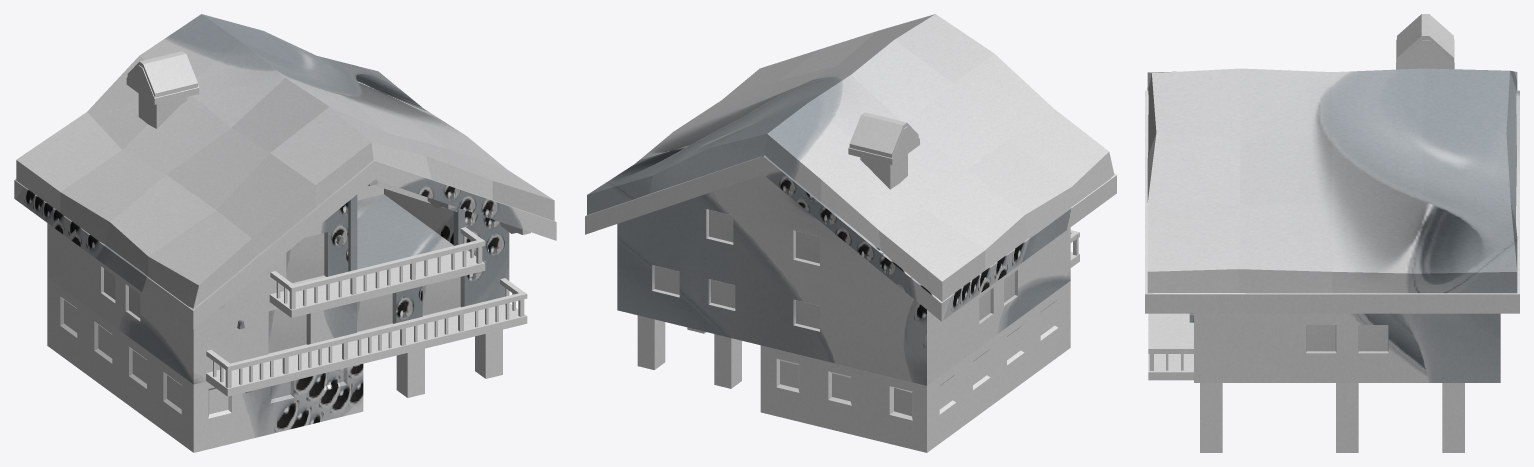
3 renders of one model, left to right at view 1: azimuth 30°, elevation 25°; view 2: azimuth 150°, elevation 25°; view 3: azimuth 270°, elevation 25°, orthographic. The views are drawn at different scales.
Parts seen in each view (by area): view 1: Chalet_mesh; view 2: Chalet_mesh; view 3: Chalet_mesh.
Boxes of the visible parts, x1=… form: Chalet_mesh: x1=14, y1=14, x2=556, y2=452; Chalet_mesh: x1=585, y1=14, x2=1116, y2=452; Chalet_mesh: x1=1145, y1=14, x2=1519, y2=452.
Size of the model in its own units: 1.36 by 1.05 by 1.16.
